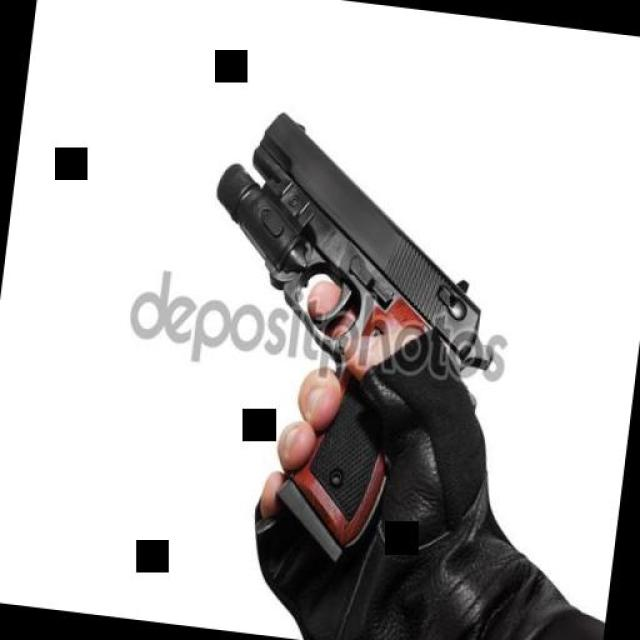gun: (174, 76, 510, 572)
